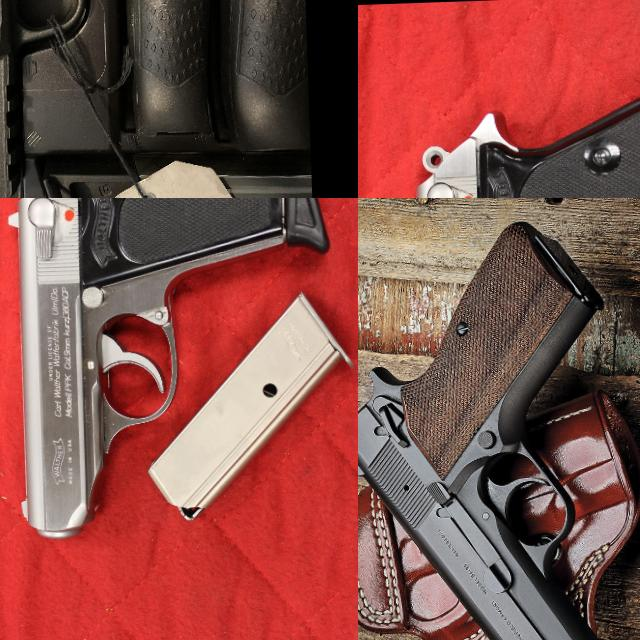handgun: (358, 211, 640, 640), (0, 198, 345, 541), (0, 0, 261, 198), (398, 80, 640, 198)
